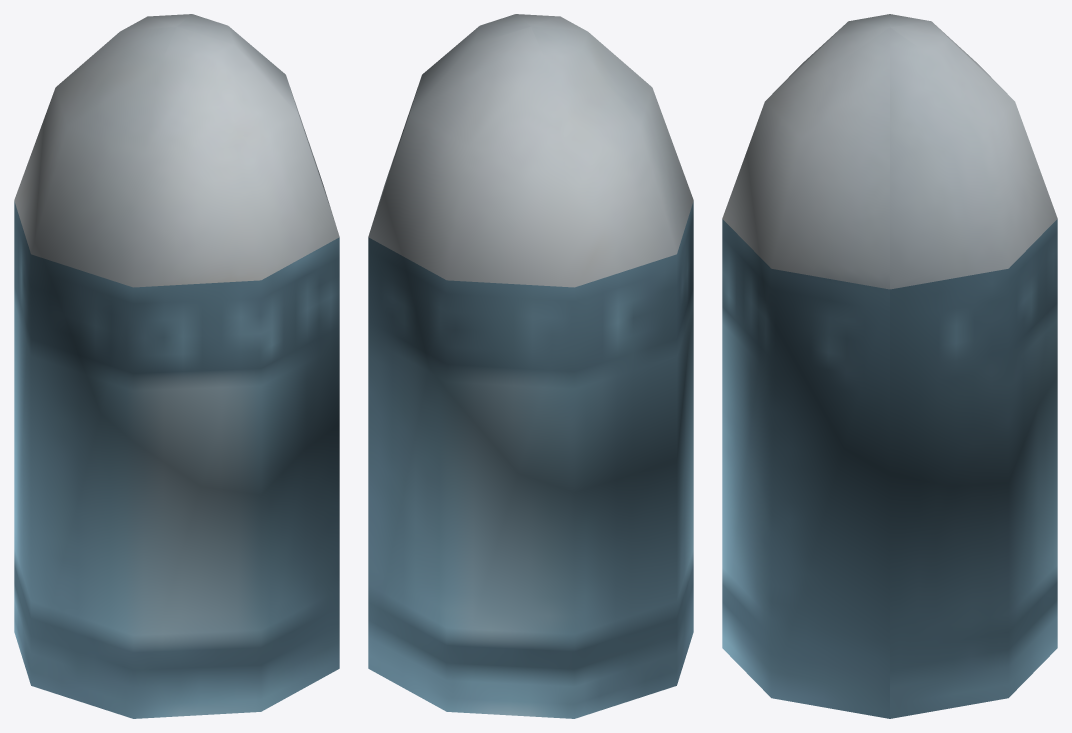
File: bullet_i.fbx
3 renders of one model, left to right at view 1: azimuth 30°, elevation 25°; view 2: azimuth 150°, elevation 25°; view 3: azimuth 270°, elevation 25°, orthographic.
Visible parts, largest first — view 1: bullet_v; view 2: bullet_v; view 3: bullet_v.
Part boxes in pixels (x1,y1,x2,y2): bullet_v: (14,14,339,718); bullet_v: (368,14,693,718); bullet_v: (722,14,1057,718).
Size of the model in its own units: 4.08 by 8.34 by 4.08.
